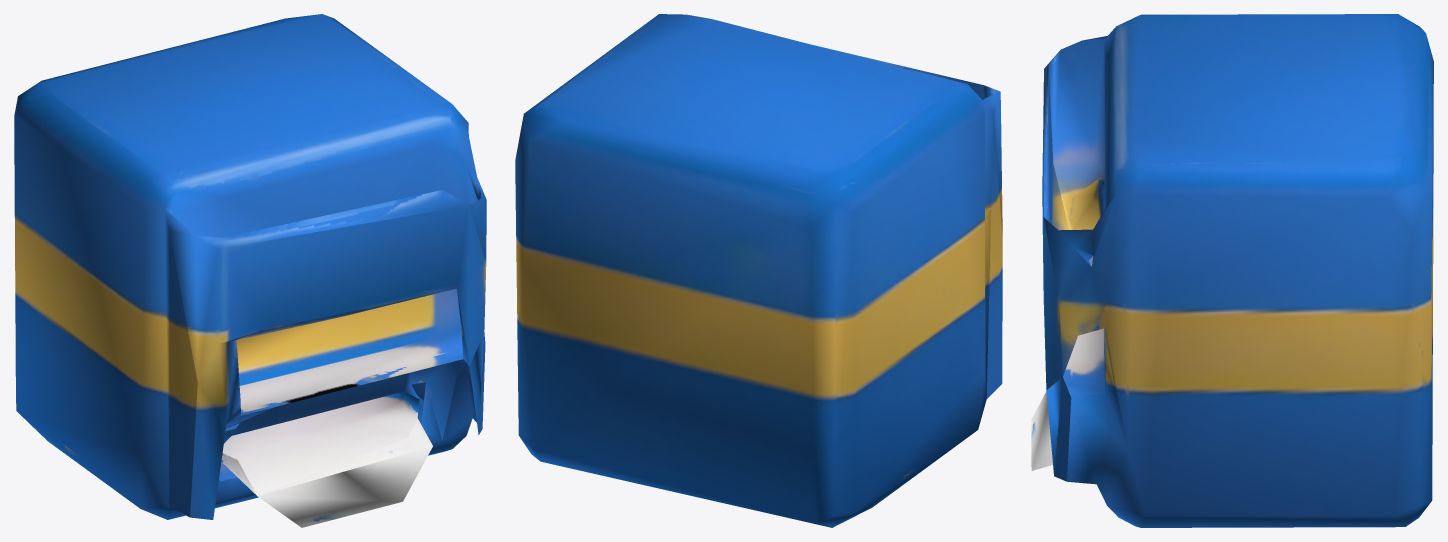
Rendered from paper-towel-dispenser.glb.
3 views of the same model, side by side, from view 1: azimuth 30°, elevation 25°; view 2: azimuth 150°, elevation 25°; view 3: azimuth 270°, elevation 25° (orthographic). The views are drawn at different scales.
Visible parts, largest first — view 1: geometry_0.001; view 2: geometry_0.001; view 3: geometry_0.001.
Part boxes in pixels (bbox=[...]): geometry_0.001: bbox=[14, 14, 486, 527]; geometry_0.001: bbox=[515, 14, 1002, 527]; geometry_0.001: bbox=[1031, 14, 1433, 527].
Size of the model in its own units: 0.9929 by 0.9967 by 0.9847.
1 material, 1 textured.
